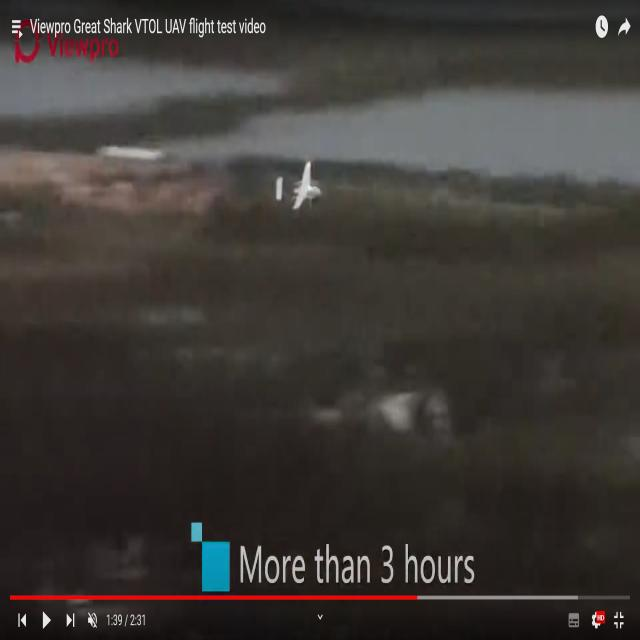iha: (275, 160, 321, 212)
